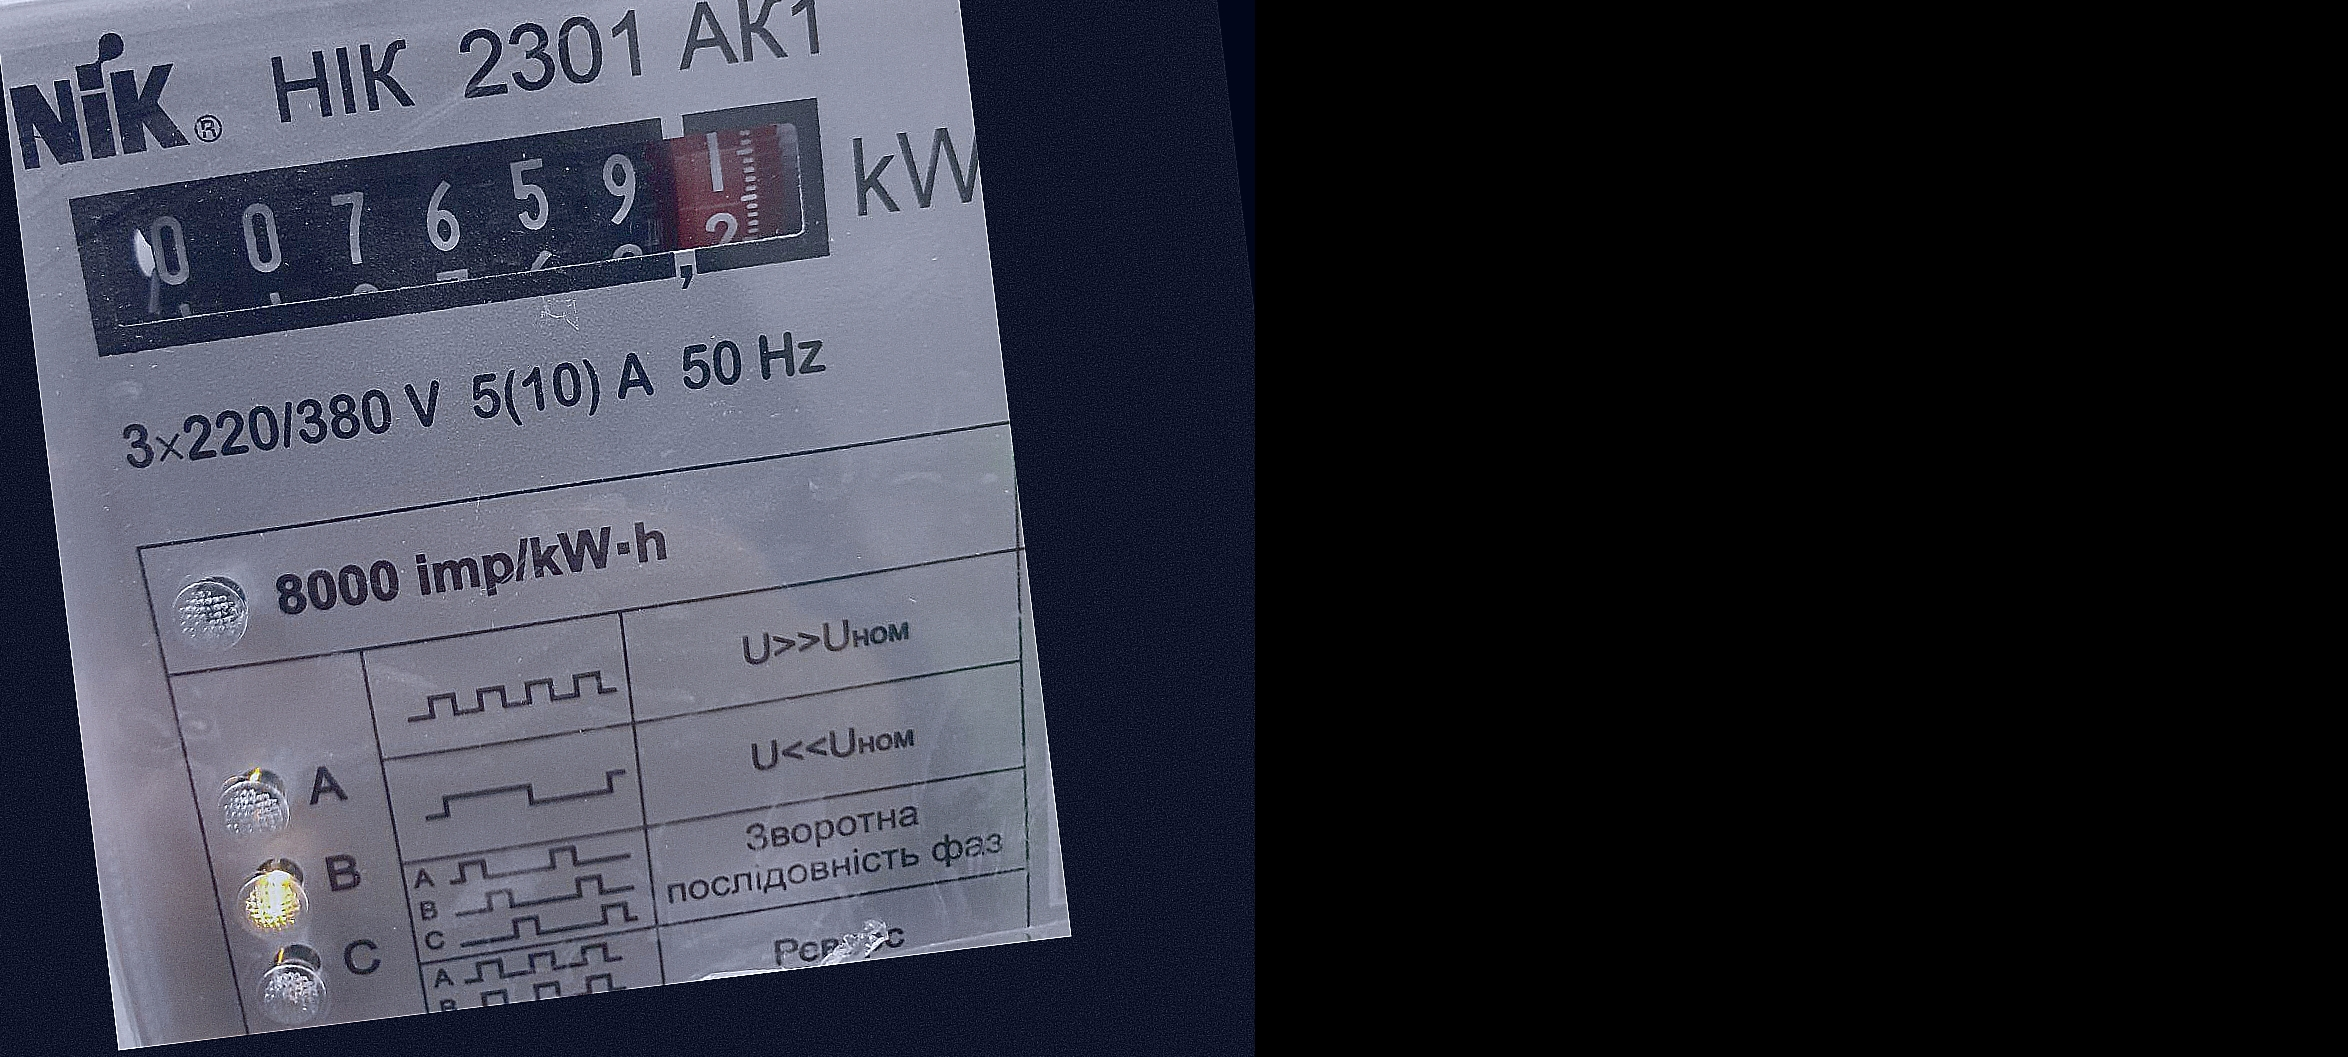0: (226, 190, 292, 281), (139, 202, 199, 296)
1: (695, 121, 738, 201)
5: (502, 150, 557, 237)
6: (410, 169, 470, 258)
7: (323, 183, 376, 272)
9: (594, 142, 645, 235)
screen: (45, 73, 860, 380)
